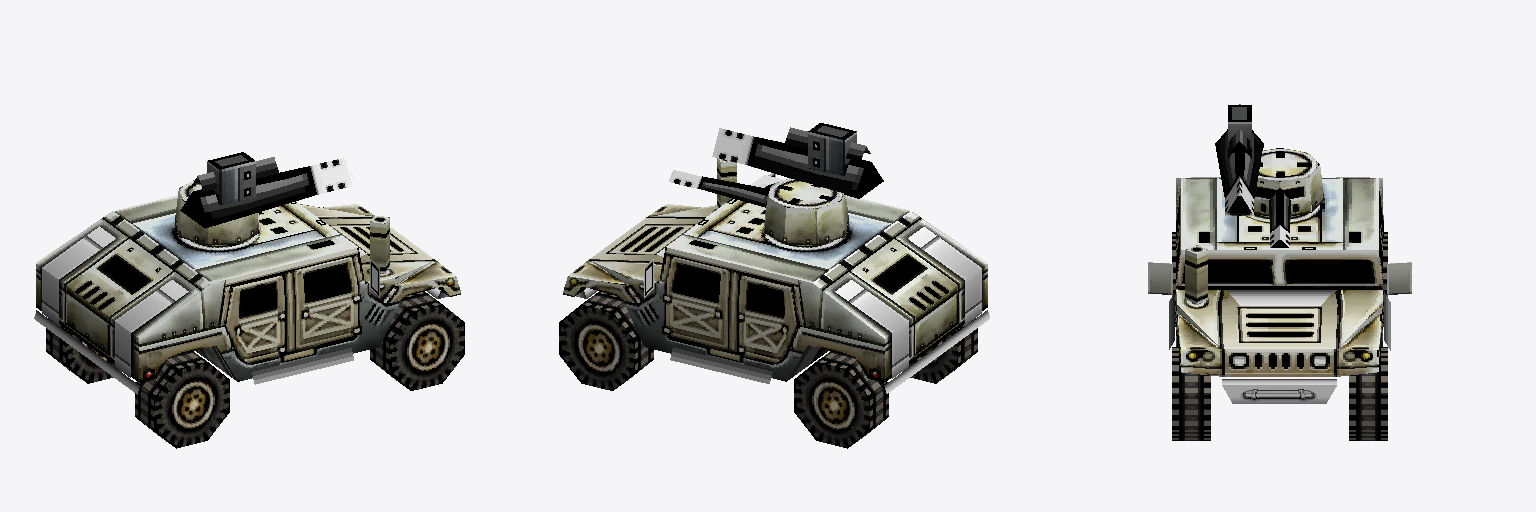
3 views of the same model, side by side, from view 1: azimuth 30°, elevation 25°; view 2: azimuth 150°, elevation 25°; view 3: azimuth 270°, elevation 25° (orthographic).
Visible parts, largest first — view 1: CHASSIS, TURRETUP01, HOUSECOLOR01, TIRE04, TIRE02, TIRE03, HOUSECOLOR03; view 2: CHASSIS, TURRETUP01, HOUSECOLOR01, TIRE03, TIRE01, TIRE04, HOUSECOLOR03; view 3: CHASSIS, TURRETUP01, HOUSECOLOR01, TIRE01, TIRE02, HOUSECOLOR03.
Part boxes in pixels (bbox=[...]): CHASSIS: bbox=[36, 195, 460, 382]; TURRETUP01: bbox=[175, 152, 316, 245]; HOUSECOLOR01: bbox=[34, 226, 448, 394]; TIRE04: bbox=[135, 351, 229, 448]; TIRE02: bbox=[370, 291, 464, 390]; TIRE03: bbox=[46, 318, 120, 383]; HOUSECOLOR03: bbox=[310, 158, 354, 194]; CHASSIS: bbox=[563, 158, 987, 382]; TURRETUP01: bbox=[698, 123, 883, 245]; HOUSECOLOR01: bbox=[576, 227, 989, 393]; TIRE03: bbox=[794, 351, 888, 448]; TIRE01: bbox=[559, 291, 653, 390]; TIRE04: bbox=[903, 318, 977, 383]; HOUSECOLOR03: bbox=[669, 128, 753, 188]; CHASSIS: bbox=[1148, 178, 1411, 376]; TURRETUP01: bbox=[1215, 104, 1324, 232]; HOUSECOLOR01: bbox=[1169, 177, 1390, 403]; TIRE01: bbox=[1349, 347, 1387, 440]; TIRE02: bbox=[1172, 347, 1210, 440]; HOUSECOLOR03: bbox=[1225, 176, 1289, 247].
Bounding box in the file's own units: 25.4 × 17.19 × 17.
Materials: 2 (2 with a texture image).